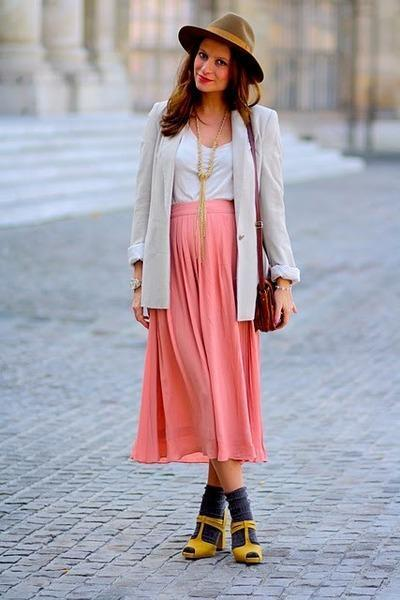bag: (242, 180, 291, 337)
dress: (132, 127, 265, 464)
hat: (178, 15, 263, 81)
jacket: (118, 99, 299, 323)
shoe: (182, 494, 262, 566)
